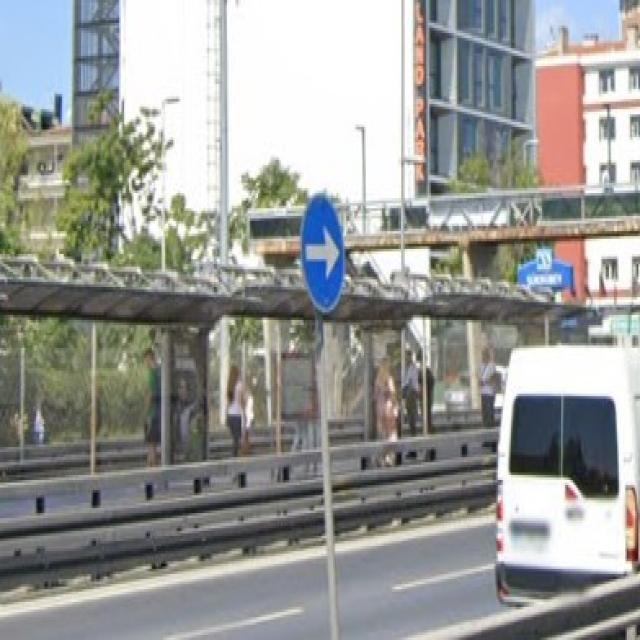Turn Right: (298, 198, 355, 317)
